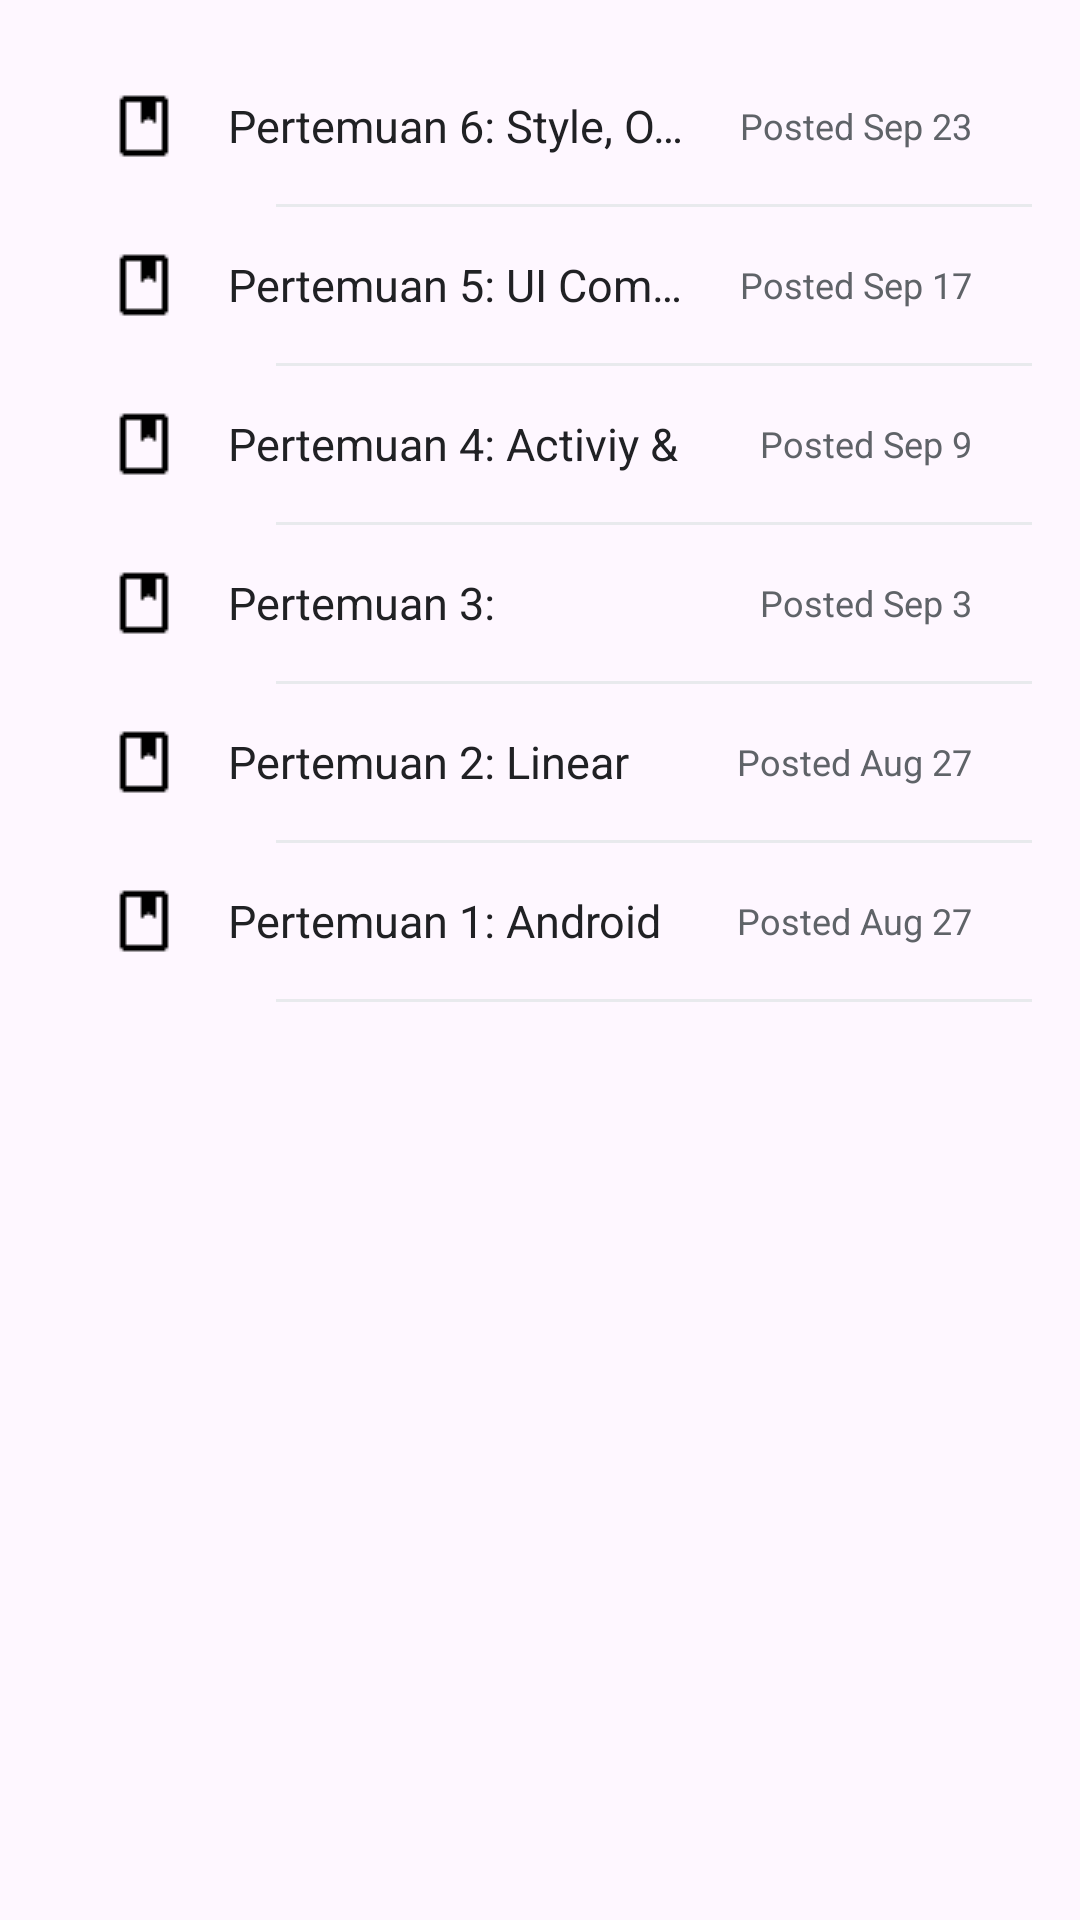

Icon click points for this 1080px×1920px phone screenshot, format (x,y):
Ikon materi: (144,126), (144,285), (144,444), (144,603), (144,762), (144,921)
